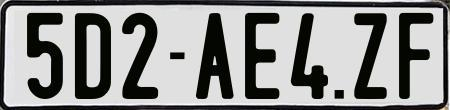2: (120, 10, 156, 100)
4: (289, 11, 330, 99)
5: (25, 13, 65, 105)
A: (194, 11, 236, 103)
D: (75, 10, 117, 101)
E: (244, 10, 282, 98)
F: (396, 12, 435, 99)
Z: (352, 10, 385, 96)
